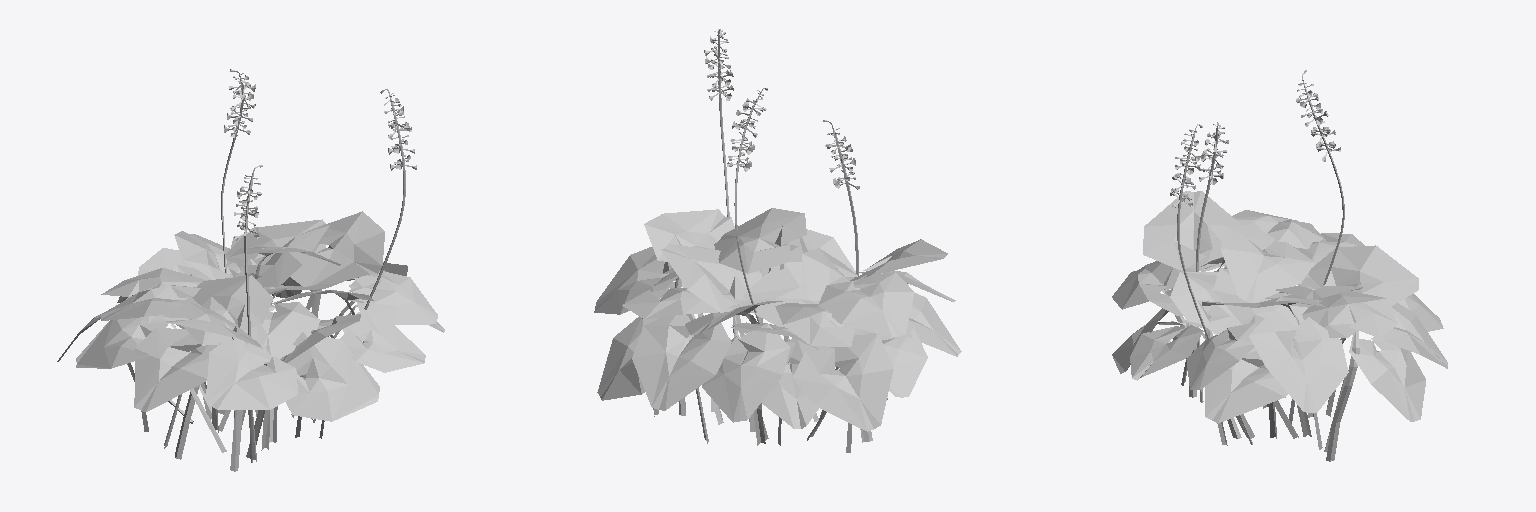
The model's file is flower01.obj.
3 renders of one model, left to right at view 1: azimuth 30°, elevation 25°; view 2: azimuth 150°, elevation 25°; view 3: azimuth 270°, elevation 25°, orthographic.
Parts seen in each view (by area): view 1: 030_stoplight; view 2: 030_stoplight; view 3: 030_stoplight.
Part boxes in pixels (x1,y1,x2,y2): 030_stoplight: (57, 69, 444, 471); 030_stoplight: (594, 29, 961, 452); 030_stoplight: (1112, 70, 1447, 461).
Size of the model in its own units: 51.54 by 55.1 by 46.83.